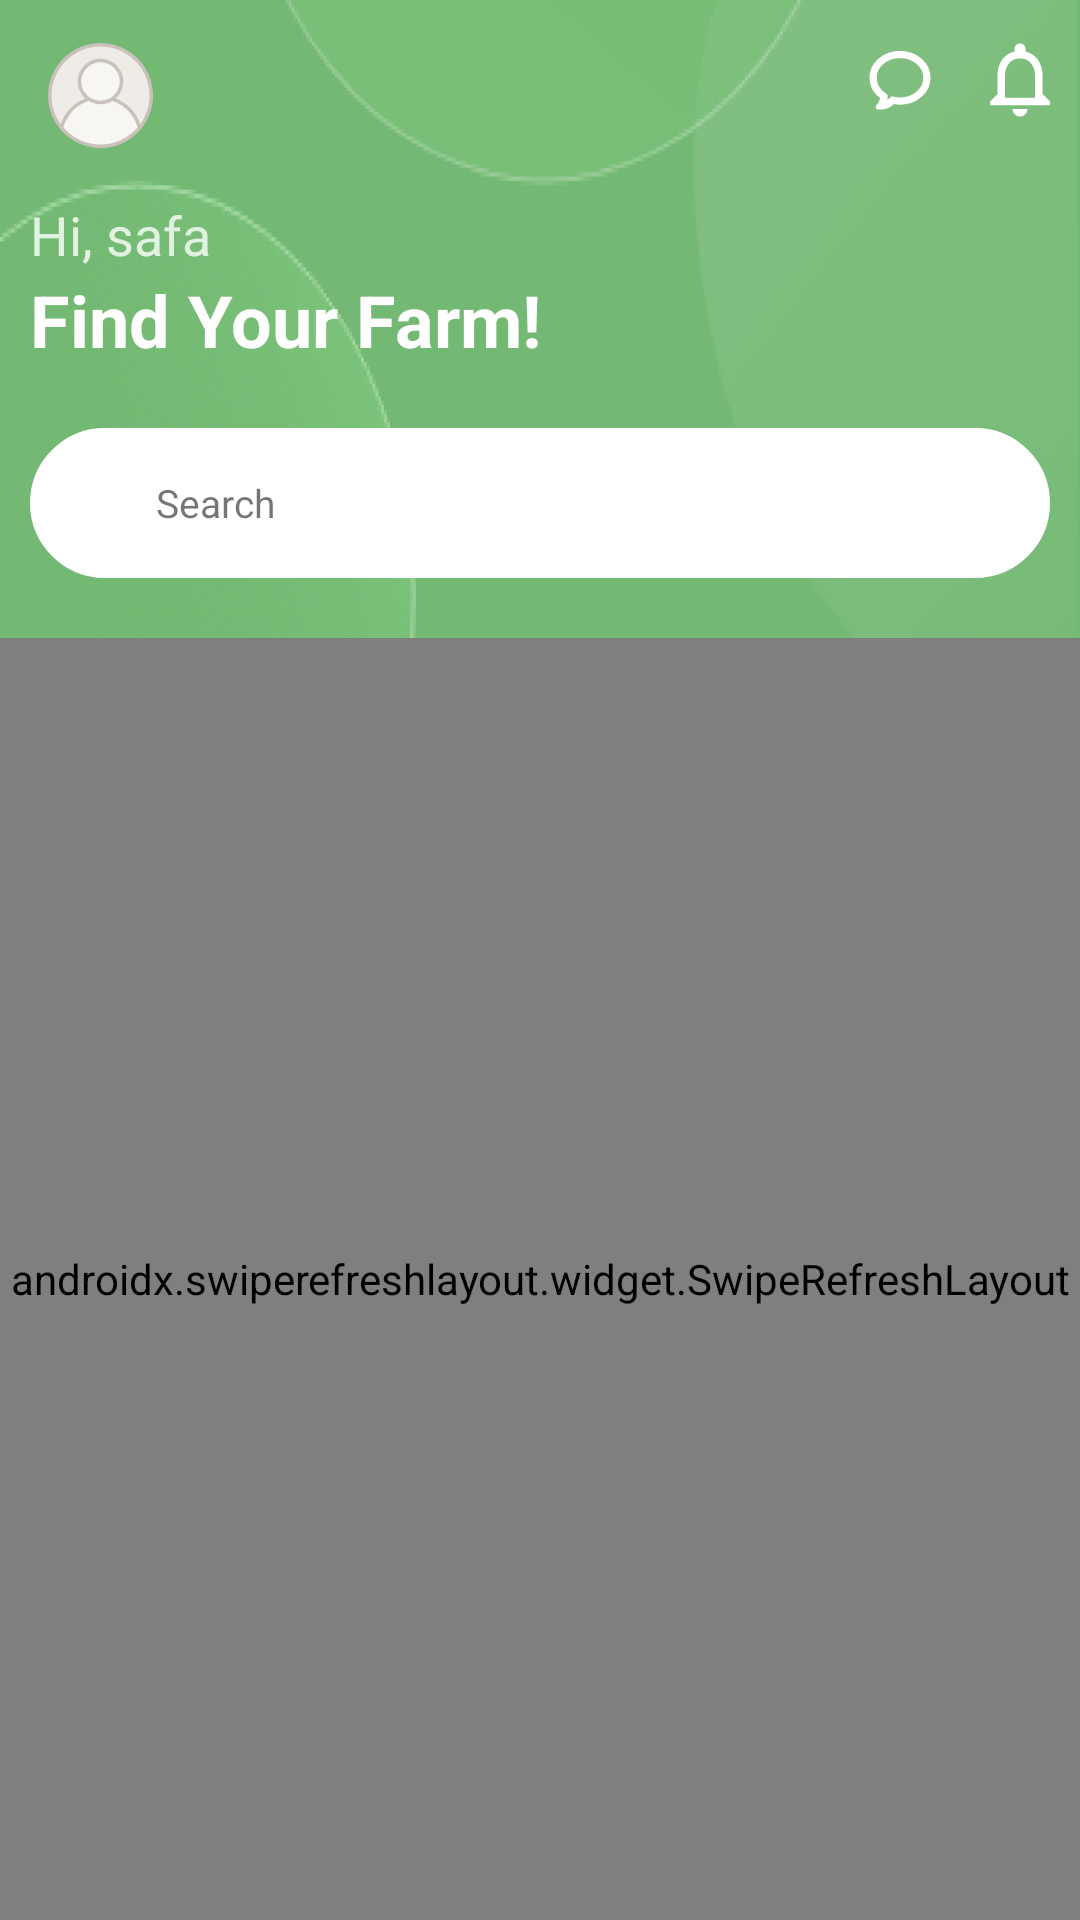

Locate icon controls on the screen. Image size 1080 × 1920, boxes as box=[x1, y1, x2, y2].
messages: box=[869, 51, 931, 110]
notifications: box=[990, 43, 1050, 117]
profile: box=[48, 43, 153, 148]
